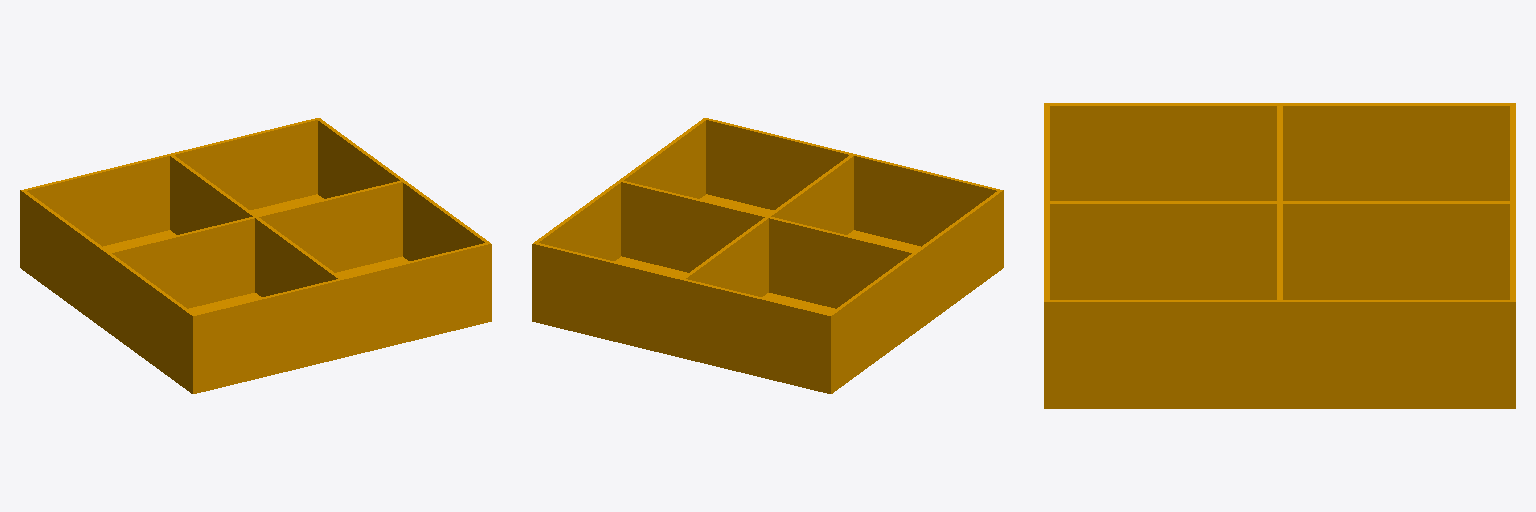
URDF robot description (cylindrical_assembly_shelf):
<?xml version="1.0"?>
<robot name="cylindrical_assembly_shelf">
    <link name="cylindrical_assembly_shelf_origin">
        <visual>
            <geometry>
                <mesh filename="package://process_visualiser/resources/meshes_resized/rectangular_wp_assembly_shelf.stl"
                      scale="1 1 1"/>
            </geometry>
        </visual>

        <inertial>
            <origin xyz="0 0 0" rpy="0 0 0"/>
            <mass value="1"/>
            <inertia
                    ixx="1.0" ixy="0.0" ixz="0.0"
                    iyy="1.0" iyz="0.0"
                    izz="1.0"/>
        </inertial>

        <collision>
            <geometry>
                <mesh filename="package://process_visualiser/resources/meshes_resized/rectangular_wp_assembly_shelf.stl"
                      scale="1 1 1"/>
            </geometry>
            <surface>
                <contact>
                    <ode>
                        <min_depth>0.01</min_depth>
                        <max_vel>0.0</max_vel>
                    </ode>
                </contact>
            </surface>
        </collision>

    </link>
    <link name="world"/>

    <joint name="fixed" type="fixed">
        <parent link="world"/>
        <child link="cylindrical_assembly_shelf_origin"/>
    </joint>

    <gazebo reference="cylindrical_assembly_shelf_origin">
        <material>Gazebo/Grey</material>
    </gazebo>

</robot>

--- Facts derived from the render (not from the file) ---
3 views of the same robot in one strip: view 1: azimuth 30°, elevation 25°; view 2: azimuth 150°, elevation 25°; view 3: azimuth 270°, elevation 25° (orthographic).
Robot: cylindrical_assembly_shelf — 2 links, 1 joints (1 fixed); root link world; default pose: all joints at 0.
Visible links, largest first — view 1: cylindrical_assembly_shelf_origin; view 2: cylindrical_assembly_shelf_origin; view 3: cylindrical_assembly_shelf_origin.
Boxes of the visible links, x1,y1,x2,y2 form: cylindrical_assembly_shelf_origin: (20,118,491,393); cylindrical_assembly_shelf_origin: (532,118,1003,393); cylindrical_assembly_shelf_origin: (1044,103,1515,408).
Bounding box of the posed robot: 0.8 × 0.8 × 0.2 m (x, y, z).
Meshes: 1 distinct files referenced, 1 mesh visuals loaded (1 binary STL).